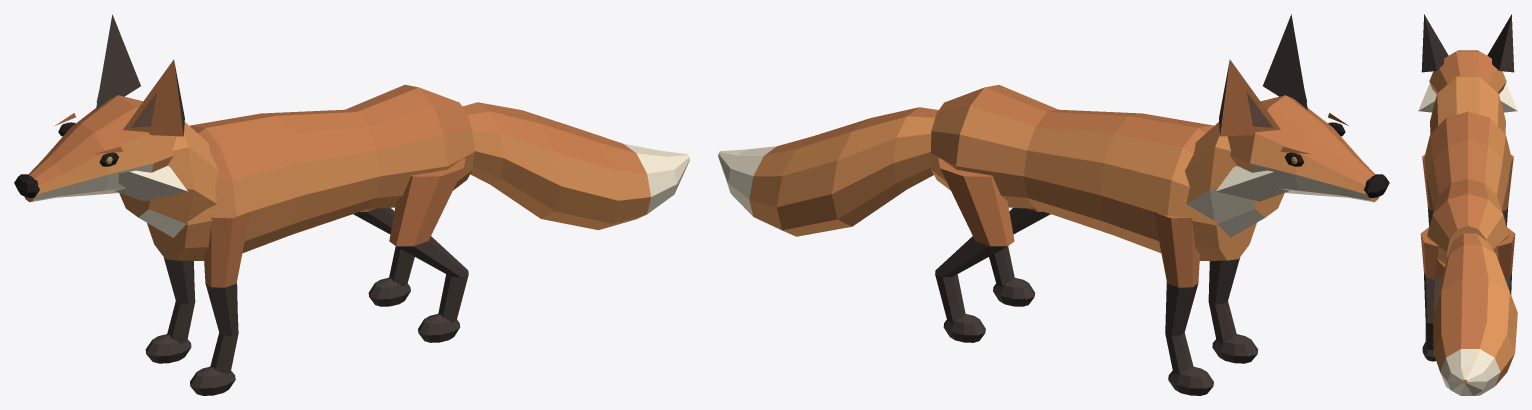
The model's file is fox-astra-softened-muzzle.glb.
3 views of the same model, side by side, from view 1: azimuth 30°, elevation 25°; view 2: azimuth 150°, elevation 25°; view 3: azimuth 270°, elevation 25° (orthographic). The views are drawn at different scales.
Parts seen in each view (by area): view 1: FoxCandidate; view 2: FoxCandidate; view 3: FoxCandidate.
Part boxes in pixels (x1,y1,x2,y2): FoxCandidate: [14, 14, 689, 395]; FoxCandidate: [718, 14, 1389, 395]; FoxCandidate: [1418, 14, 1517, 395].
Bounding box in the file's own units: 1.86 × 0.9398 × 0.3382.
